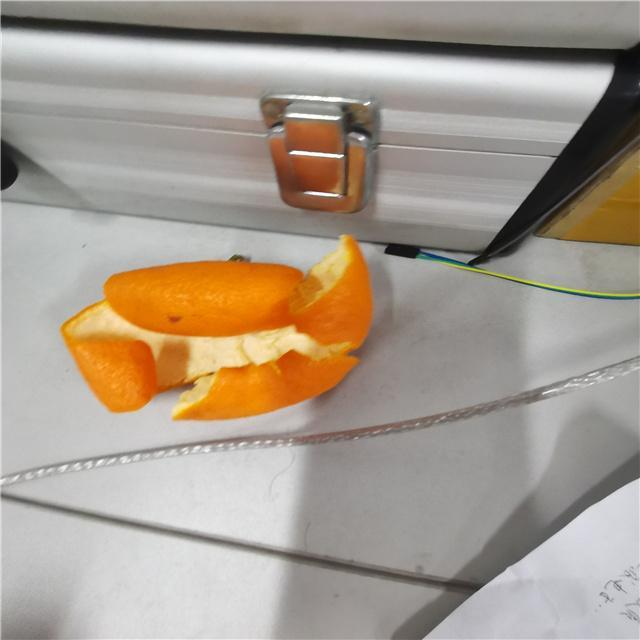orange-peel: (59, 232, 374, 422)
